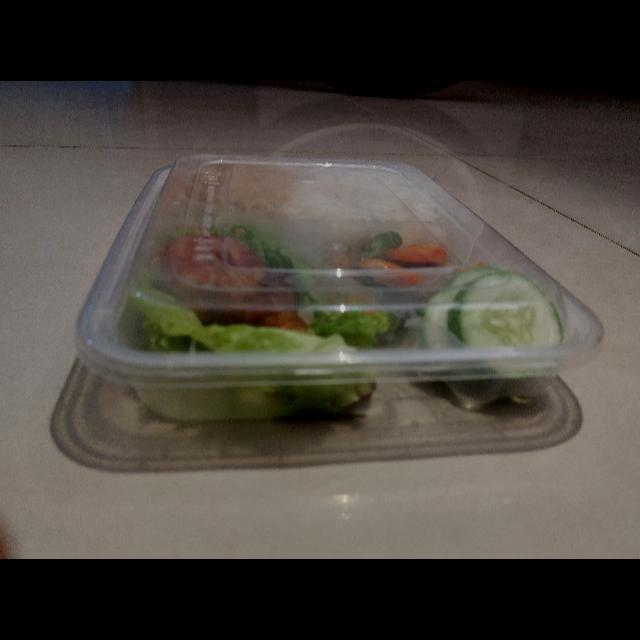bento: (78, 158, 607, 424)
